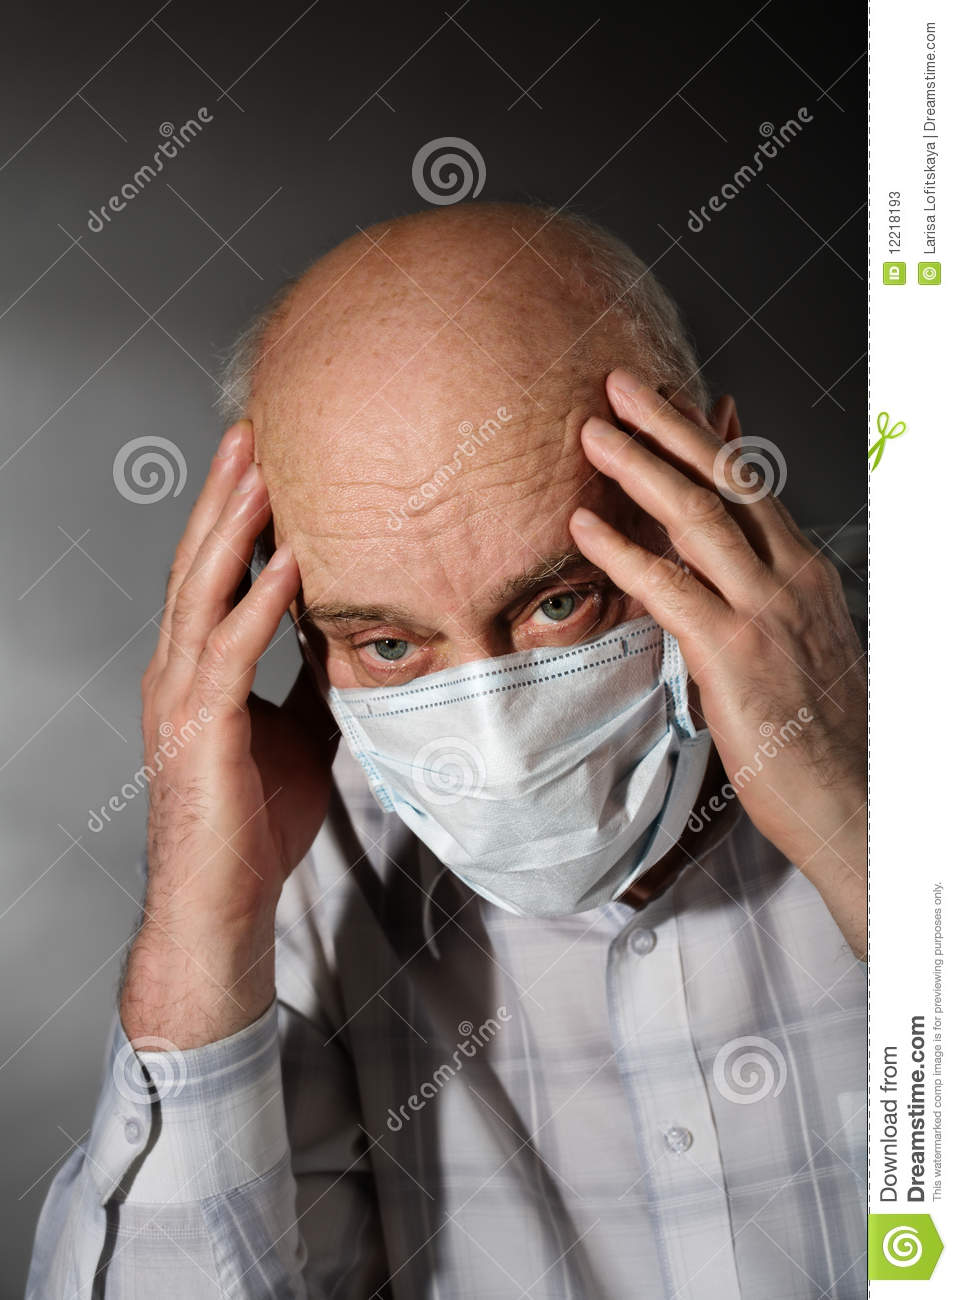mask: (338, 637, 709, 918)
